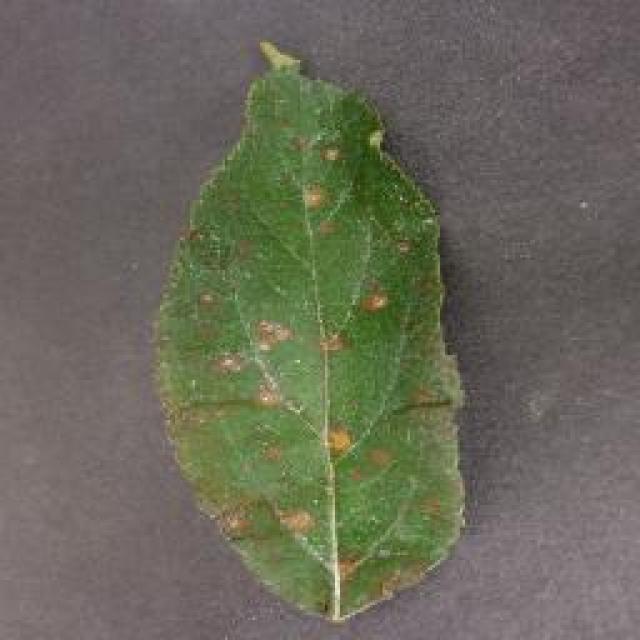apple cedar apple rust: (150, 38, 468, 622)
